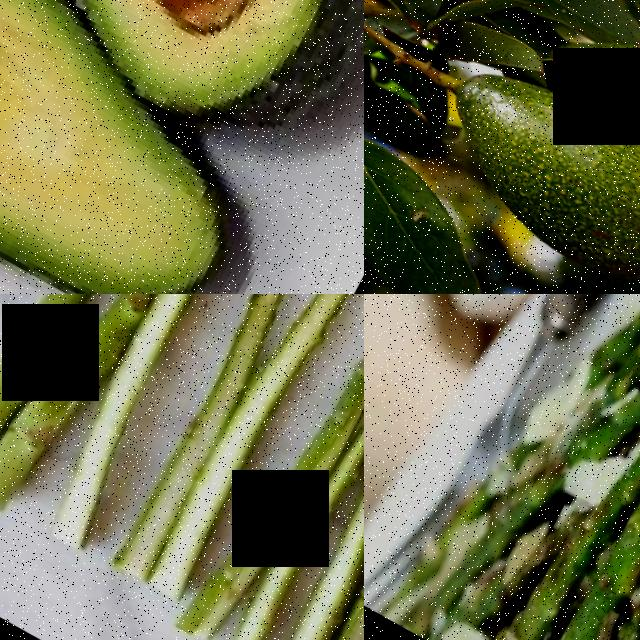asparagus: (185, 294, 364, 640), (2, 294, 233, 530), (0, 294, 185, 532), (530, 294, 640, 640), (294, 295, 364, 640)
avocado: (0, 0, 326, 294), (0, 0, 364, 198), (405, 29, 640, 294), (505, 0, 640, 261)
